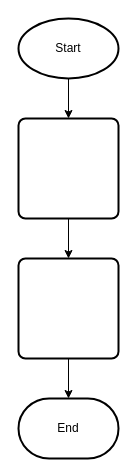
This 136x476 diagram has some shape labels left out. Each missing label, with the centre of its shape:
Convert Earth weight to Mars weight: point 68,308
On "Convert" Button Click: point 68,168
